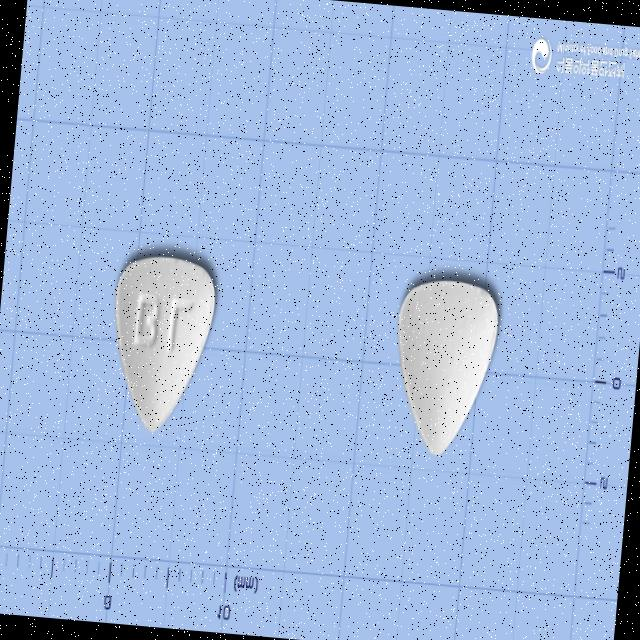Baracle -1mg: (383, 268, 506, 466), (100, 247, 222, 438)
